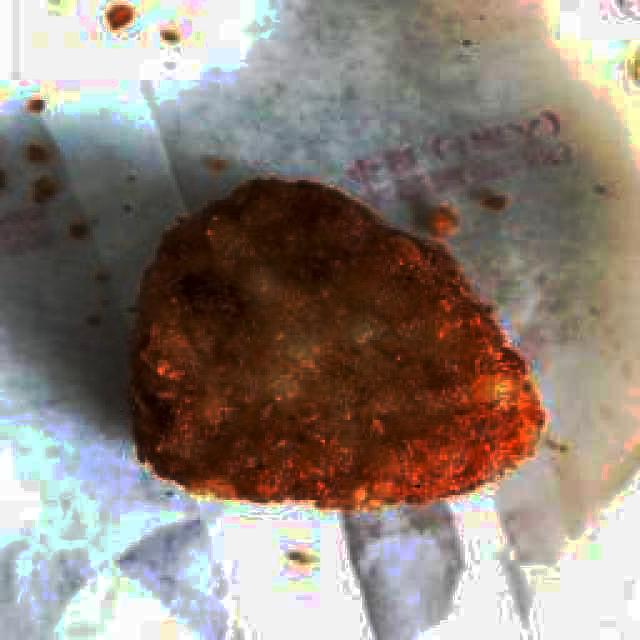Hashbrown: (124, 178, 542, 511)
